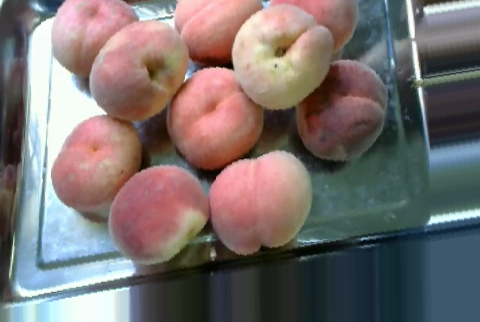Peach: (207, 149, 314, 253), (107, 164, 211, 266), (233, 5, 332, 110), (167, 64, 264, 171), (89, 21, 190, 120), (48, 115, 144, 215), (297, 59, 386, 161), (48, 0, 146, 75)
